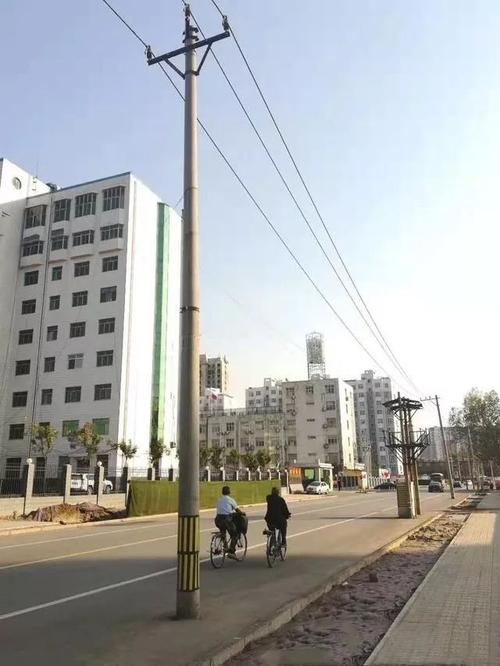utility_pole: (136, 1, 236, 83)
